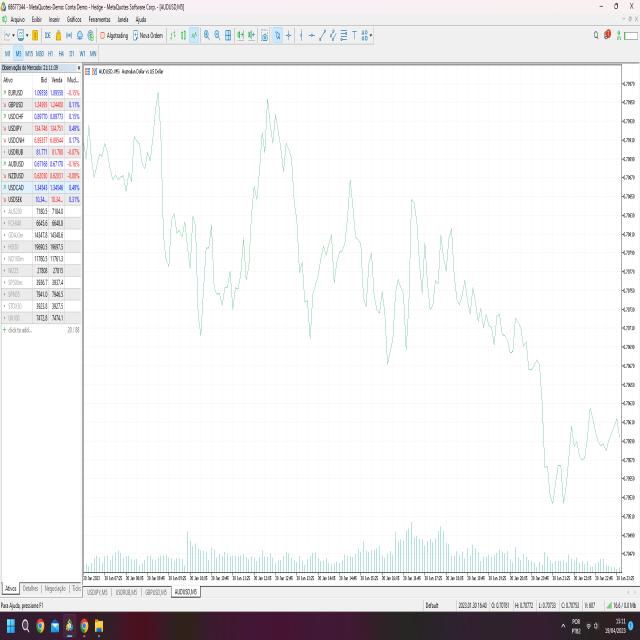fundo_duplo: (532, 442, 577, 527)
oco: (309, 147, 385, 339)
topo_duplo: (435, 220, 459, 301)
